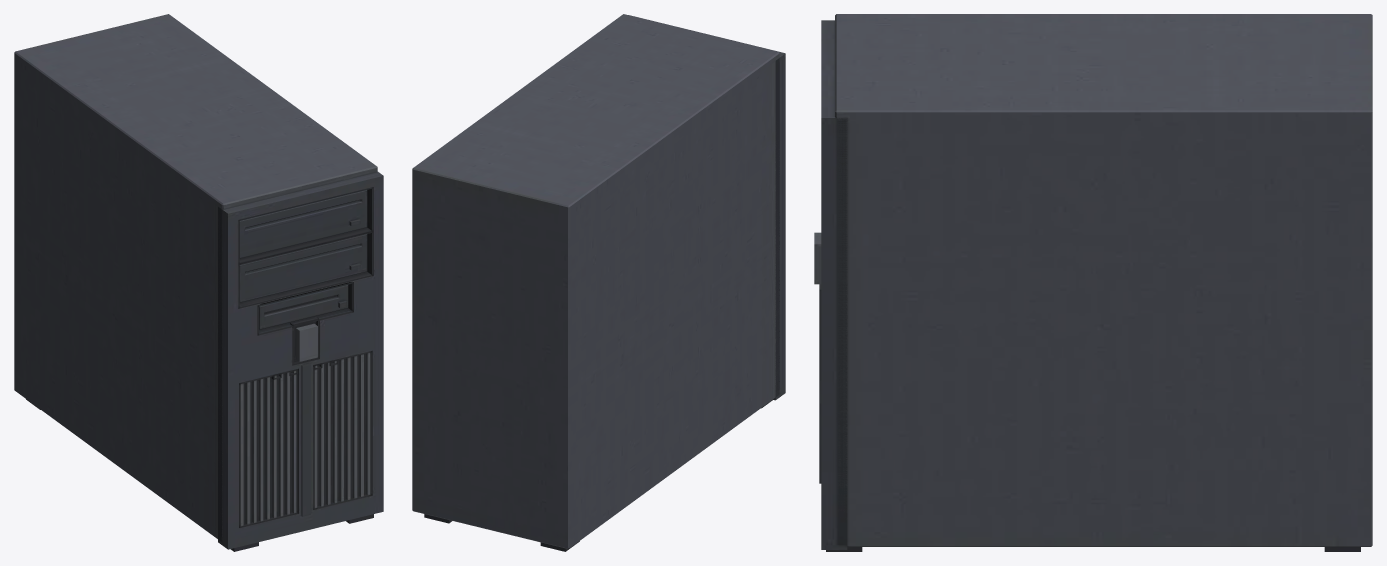
The model's file is tower-e.glb.
3 views of the same model, side by side, from view 1: azimuth 30°, elevation 25°; view 2: azimuth 150°, elevation 25°; view 3: azimuth 270°, elevation 25° (orthographic). The views are drawn at different scales.
Visible parts, largest first — view 1: case-baked; view 2: case-baked; view 3: case-baked.
Part boxes in pixels (<box>): case-baked: <box>14,14,383,551</box>; case-baked: <box>412,14,785,551</box>; case-baked: <box>814,14,1372,551</box>.
Bounding box in the file's own units: 0.177 × 0.377 × 0.428.
Materials: 1 (1 with a texture image).
